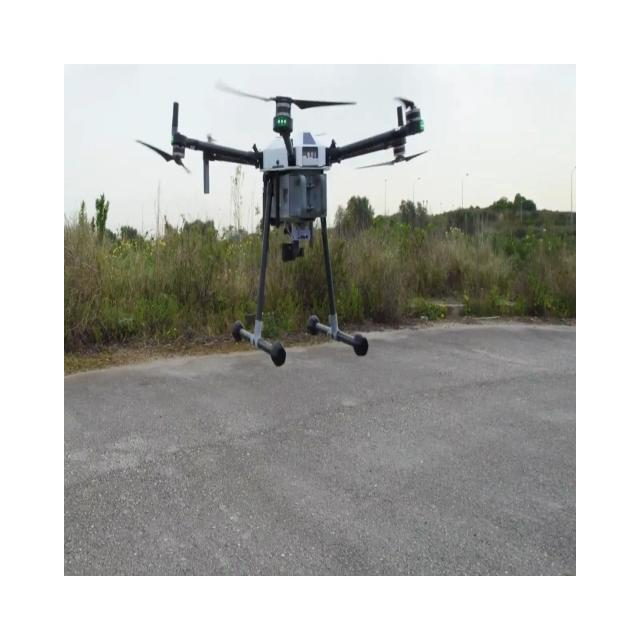drone: (135, 80, 429, 366)
